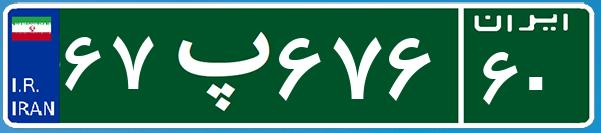0: (525, 38, 570, 115)
6: (385, 28, 445, 110), (273, 28, 330, 110), (57, 26, 110, 107), (475, 38, 525, 113)
7: (330, 28, 385, 110), (110, 28, 158, 105)
پ: (158, 15, 273, 115)
